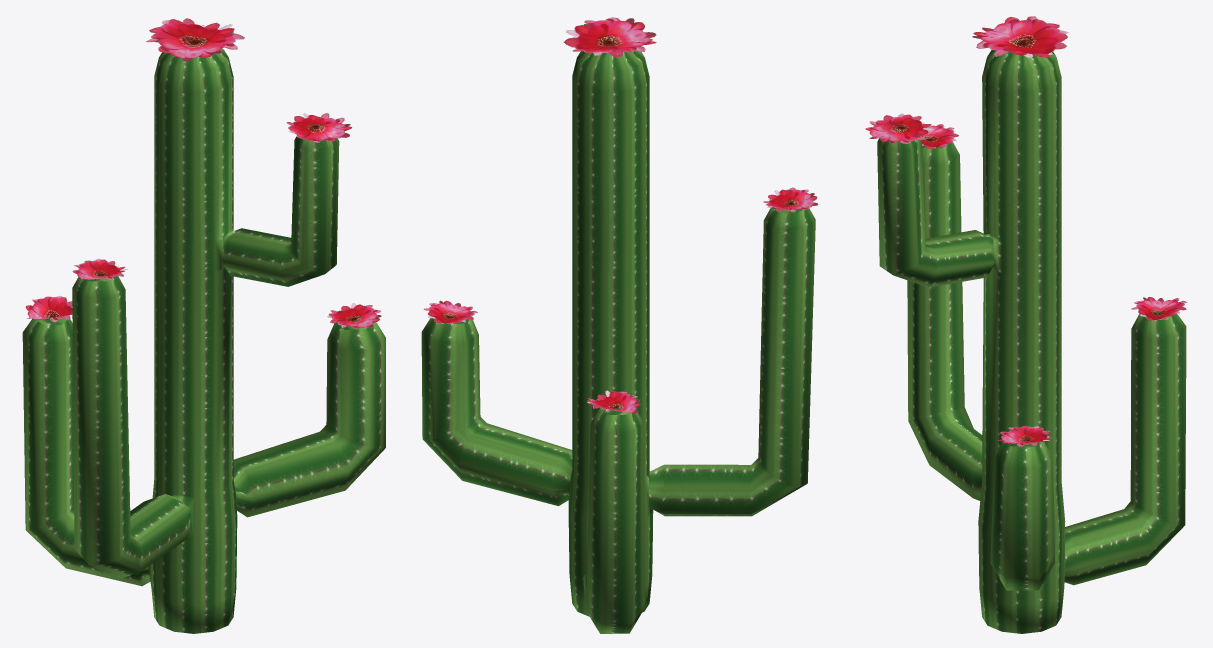
File: tall-cactus.obj
3 renders of one model, left to right at view 1: azimuth 30°, elevation 25°; view 2: azimuth 150°, elevation 25°; view 3: azimuth 270°, elevation 25°, orthographic. The views are drawn at different scales.
Visible parts, largest first — view 1: Cylinder.001, Plane.002, Plane.003, Plane, Plane.004, Plane.001; view 2: Cylinder.001, Plane.002, Plane.001, Plane, Plane.004; view 3: Cylinder.001, Plane.002, Plane.003, Plane.004, Plane, Plane.001.
Boxes of the visible parts, x1,y1,x2,y2 form: Cylinder.001: (22, 48, 385, 633); Plane.002: (146, 18, 245, 61); Plane.003: (286, 113, 352, 142); Plane: (327, 303, 381, 328); Plane.004: (25, 295, 72, 322); Plane.001: (72, 258, 128, 280); Cylinder.001: (421, 50, 815, 633); Plane.002: (563, 17, 656, 57); Plane.001: (763, 187, 818, 212); Plane: (423, 300, 477, 324); Plane.004: (587, 390, 640, 413); Cylinder.001: (877, 50, 1186, 633); Plane.002: (972, 16, 1068, 58); Plane.003: (865, 113, 933, 143); Plane.004: (1131, 296, 1187, 320); Plane: (997, 425, 1052, 446); Plane.001: (922, 124, 959, 148).
Size of the model in its own units: 10.79 by 16.18 by 8.64.
